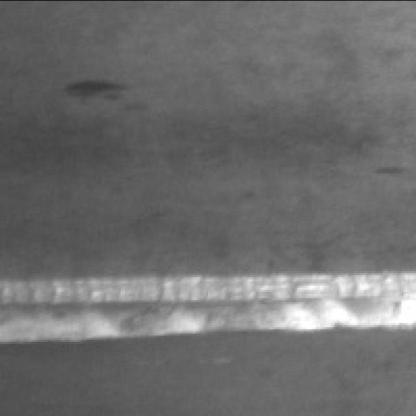inclusion: (56, 71, 129, 104)
scratches: (0, 264, 412, 343)
